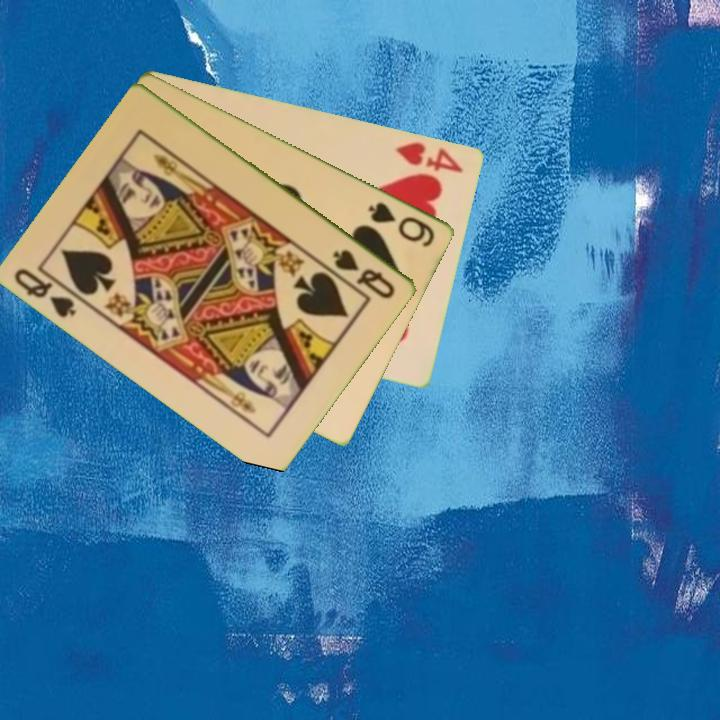4h: (393, 138, 466, 175)
6s: (365, 198, 439, 250)
Qs: (329, 245, 399, 302), (11, 264, 80, 321)
